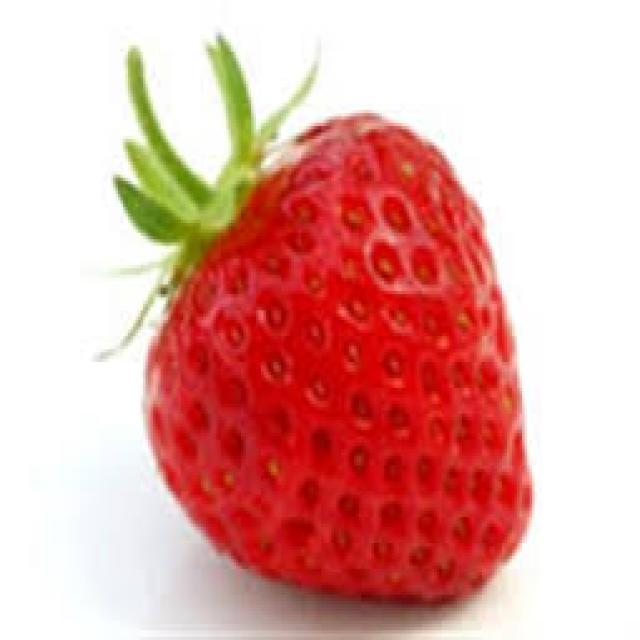strawberry: (136, 103, 542, 618)
